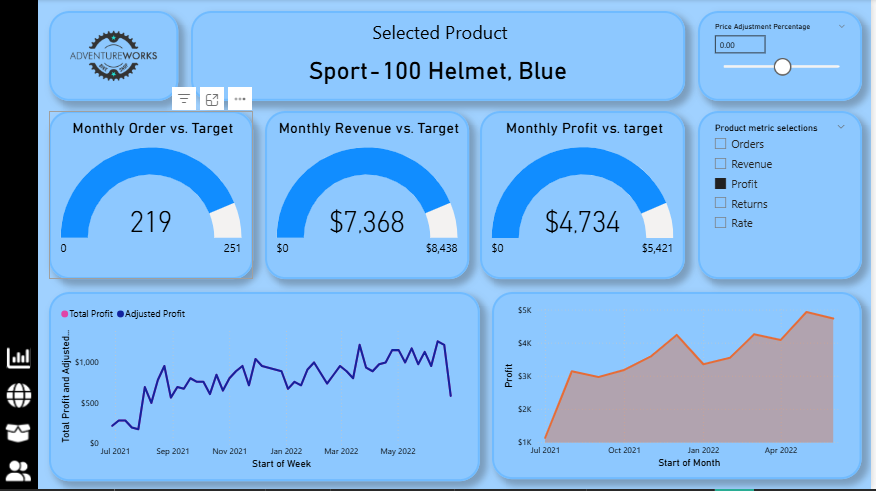

This screenshot's page, from the dashboard's own definition file:
{"tool":"powerbi","page":{"name":"Product Details","canvas":[1280,720],"ordinal":2},"visuals":[{"type":"shape","box":[0,0,55.8,720],"z":0},{"type":"actionButton","box":[5.9,502.5,42.6,51.5],"z":0,"group":"g1"},{"type":"image","box":[72,17.6,189.6,132.2],"z":1000},{"type":"actionButton","box":[5.9,555.5,44,54.5],"z":1000,"group":"g1"},{"type":"card","title":"Selected Product","fields":{"Values":["Min(Product Lookup.ProductName)"]},"box":[280.7,17.6,725.9,132.2],"z":2000},{"type":"actionButton","box":[4.4,609.6,44.3,55.9],"z":2000,"group":"g1"},{"type":"gauge","title":"Monthly Order vs. Target","fields":{"Y":["Measure Table.Total Orders"],"MaxValue":["Measure Table.Order Target"]},"box":[72,164.6,299.8,246.9],"z":3000},{"type":"actionButton","box":[4.4,665.5,45.5,54.5],"z":3000,"group":"g1"},{"type":"gauge","title":"Monthly Revenue vs. Target","fields":{"Y":["Measure Table.Total Revenue"],"MaxValue":["Measure Table.Revenue Target"]},"box":[389.4,164.6,299.8,246.9],"z":4000},{"type":"gauge","title":"Monthly Profit vs. target","fields":{"Y":["Measure Table.Total Profit"],"MaxValue":["Measure Table.Profit Target"]},"box":[705.3,164.6,301.2,246.9],"z":5000},{"type":"lineChart","fields":{"Category":["Calendar Lookup.Date Hierarchy.Year","Calendar Lookup.Date Hierarchy.Start of Month","Calendar Lookup.Date Hierarchy.Start of Week","Calendar Lookup.Date Hierarchy.Date"],"Y":["Measure Table.Total Profit","Measure Table.Adjusted Profit"]},"box":[72,430.5,633.3,277.7],"z":6000},{"type":"areaChart","fields":{"Y":["Measure Table.Total Profit"],"Category":["Calendar Lookup.Date Hierarchy.Year","Calendar Lookup.Date Hierarchy.Start of Month","Calendar Lookup.Date Hierarchy.Start of Week","Calendar Lookup.Date Hierarchy.Date"]},"box":[722.2,430.8,543.5,275.3],"z":7000},{"type":"slicer","fields":{"Values":["Price Adjustment Percentage.Price Adjustment Percentage"]},"box":[1025.6,17.6,241,132.2],"z":8000},{"type":"group","id":"g1","title":"Page Navigation","box":[4.4,502.5,45.6,217.5],"z":9000},{"type":"slicer","fields":{"Values":["Product metric selections.Product metric selections"]},"box":[1025.6,164.6,241,246.9],"z":10000}]}

Visuals, with their boxes on the page's 1280x720 design canvas (x1, y1, x2, y2). These are canvas units, not pixel positions in the 876x491 screenshot, which may show the page scaled, cropped or inside an application window:
shape: <bbox>0, 0, 56, 720</bbox>
actionButton: <bbox>6, 502, 48, 554</bbox>
image: <bbox>72, 18, 262, 150</bbox>
actionButton: <bbox>6, 556, 50, 610</bbox>
"Selected Product" card: <bbox>281, 18, 1007, 150</bbox>
actionButton: <bbox>4, 610, 49, 666</bbox>
"Monthly Order vs. Target" gauge: <bbox>72, 165, 372, 412</bbox>
actionButton: <bbox>4, 666, 50, 720</bbox>
"Monthly Revenue vs. Target" gauge: <bbox>389, 165, 689, 412</bbox>
"Monthly Profit vs. target" gauge: <bbox>705, 165, 1006, 412</bbox>
lineChart - Calendar Lookup.Date Hierarchy.Year x Calendar Lookup.Date Hierarchy.Start of Month: <bbox>72, 430, 705, 708</bbox>
areaChart - Measure Table.Total Profit x Calendar Lookup.Date Hierarchy.Year: <bbox>722, 431, 1266, 706</bbox>
slicer - Price Adjustment Percentage.Price Adjustment Percentage: <bbox>1026, 18, 1267, 150</bbox>
"Page Navigation" group: <bbox>4, 502, 50, 720</bbox>
slicer - Product metric selections.Product metric selections: <bbox>1026, 165, 1267, 412</bbox>
